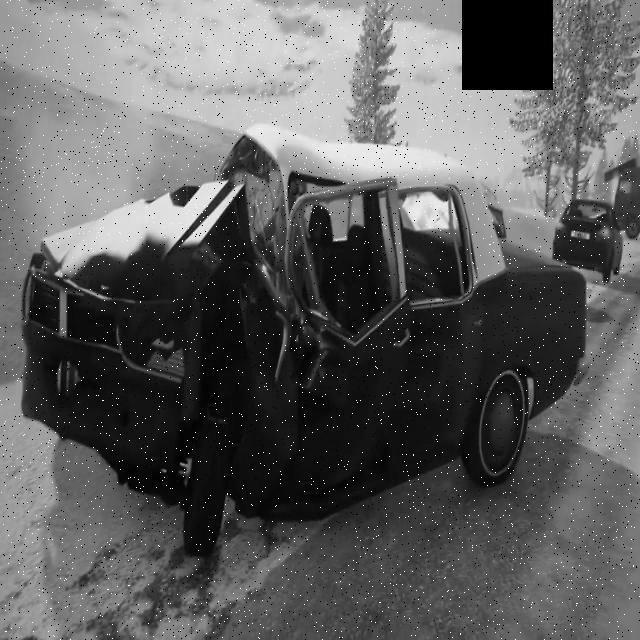accident: (11, 111, 589, 564)
vehicle: (554, 196, 623, 285), (607, 153, 640, 245)
